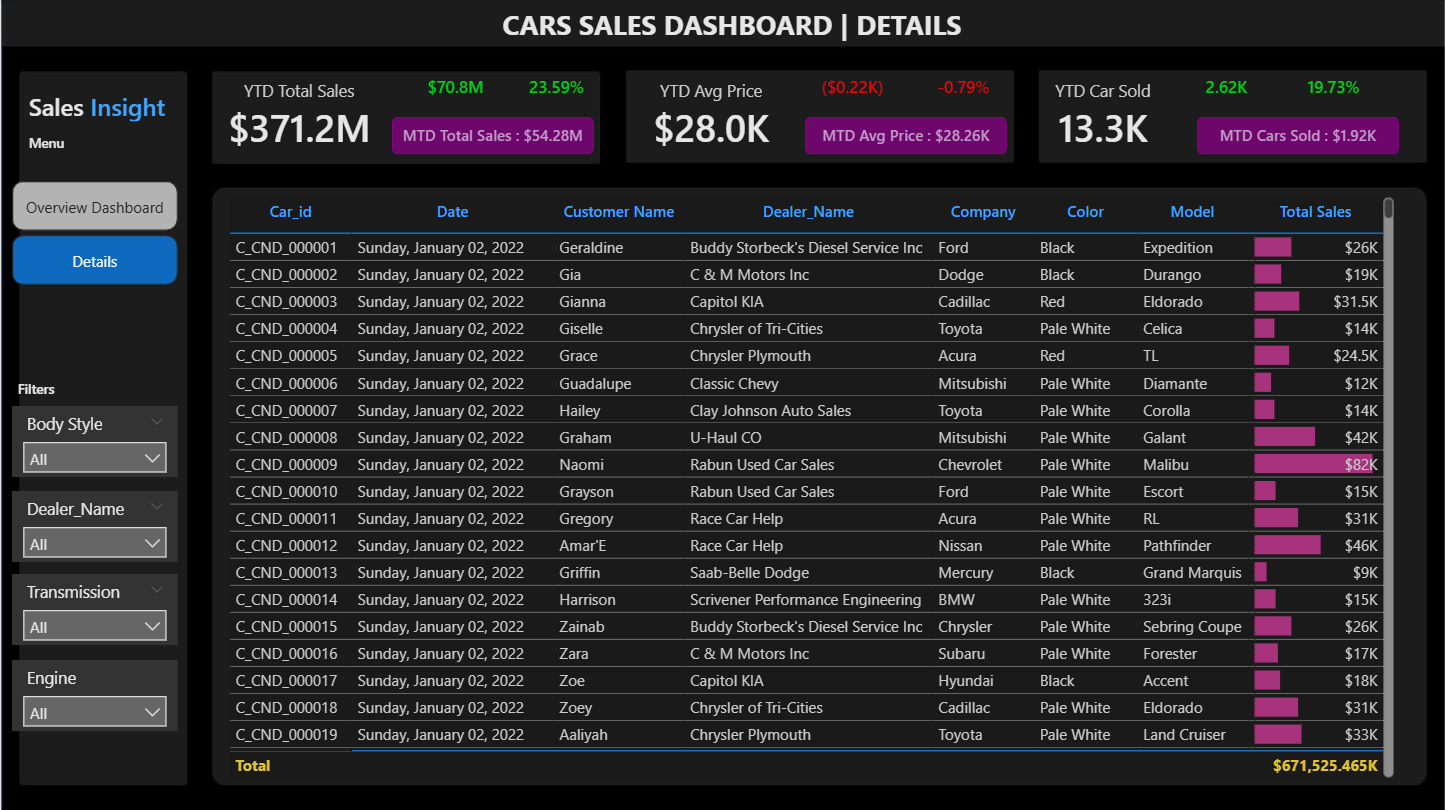

The page's visual inventory and layout, read from the dashboard file:
{"tool":"powerbi","page":{"name":"Details","canvas":[1280,720],"ordinal":1},"visuals":[{"type":"card","title":"YTD Total Sales","fields":{"Values":["car_data.YTD Total Sales"]},"box":[193.6,70,142,67.1],"z":0},{"type":"card","fields":{"Values":["car_data.Sales Difference"]},"box":[364.7,63.2,76.8,33.1],"z":1000},{"type":"card","fields":{"Values":["car_data.YoY Sales Growth"]},"box":[454.2,63.2,76.8,33.1],"z":2000},{"type":"card","fields":{"Values":["car_data.MTD KPI"]},"box":[346.3,104.1,179,33.1],"z":3000},{"type":"card","title":"YTD Avg Price","fields":{"Values":["car_data.YTD Avg Price"]},"box":[558.3,70,142,67.1],"z":4000},{"type":"card","fields":{"Values":["car_data.Avg Price Difference"]},"box":[716.8,63.2,76.8,33.1],"z":5000},{"type":"card","fields":{"Values":["car_data.YoY Avg Price Growth"]},"box":[815.1,63.2,76.8,33.1],"z":6000},{"type":"card","fields":{"Values":["car_data.MTD Avg Price KPI"]},"box":[712.9,104.1,179,33.1],"z":7000},{"type":"card","title":"YTD Car Sold","fields":{"Values":["car_data.YTD Cars Sold"]},"box":[906.5,70,142,67.1],"z":8000},{"type":"card","fields":{"Values":["car_data.Cars Sold Diff"]},"box":[1048.5,63.2,76.8,33.1],"z":9000},{"type":"card","fields":{"Values":["car_data.YoY Car Sold Growth"]},"box":[1142.9,63.2,76.8,33.1],"z":10000},{"type":"card","fields":{"Values":["car_data.MTD Cars Sold KPI"]},"box":[1060.2,104.1,179,33.1],"z":11000},{"type":"textbox","box":[423,0,450.4,44.3],"z":17000},{"type":"slicer","fields":{"Values":["car_data.Body Style"]},"box":[9.8,360,147.2,63],"z":18000},{"type":"slicer","fields":{"Values":["car_data.Dealer_Name"]},"box":[9.8,435.4,147.2,63],"z":19000},{"type":"slicer","fields":{"Values":["car_data.Transmission"]},"box":[9.8,509,147.2,63],"z":20000},{"type":"slicer","fields":{"Values":["car_data.Engine"]},"box":[9.8,585.2,147.2,63],"z":21000},{"type":"textbox","box":[9.8,330.7,74.5,29.3],"z":22000},{"type":"tableEx","fields":{"Values":["car_data.Car_id","car_data.Date","car_data.Customer Name","car_data.Dealer_Name","car_data.Company","car_data.Color","car_data.Model","Sum(car_data.Price ($))"]},"box":[196.8,170.2,1042.8,524],"z":22001},{"type":"pageNavigator","box":[9.8,160.5,147.2,92.2],"z":22002},{"type":"textbox","box":[19.5,112.6,74.5,29.3],"z":22003},{"type":"textbox","box":[19.5,74.5,137.4,38.1],"z":22004}]}

Visuals, with their boxes in screenshot pixels (x1, y1, x2, y2), scaled from the page's 1280x720 canvas onto the 1445x810 screenshot:
"YTD Total Sales" card: bbox=[219, 79, 379, 154]
card - car_data.Sales Difference: bbox=[412, 71, 498, 108]
card - car_data.YoY Sales Growth: bbox=[513, 71, 599, 108]
card - car_data.MTD KPI: bbox=[391, 117, 593, 154]
"YTD Avg Price" card: bbox=[630, 79, 791, 154]
card - car_data.Avg Price Difference: bbox=[809, 71, 896, 108]
card - car_data.YoY Avg Price Growth: bbox=[920, 71, 1007, 108]
card - car_data.MTD Avg Price KPI: bbox=[805, 117, 1007, 154]
"YTD Car Sold" card: bbox=[1023, 79, 1184, 154]
card - car_data.Cars Sold Diff: bbox=[1184, 71, 1270, 108]
card - car_data.YoY Car Sold Growth: bbox=[1290, 71, 1377, 108]
card - car_data.MTD Cars Sold KPI: bbox=[1197, 117, 1399, 154]
textbox: bbox=[478, 0, 986, 50]
slicer - car_data.Body Style: bbox=[11, 405, 177, 476]
slicer - car_data.Dealer_Name: bbox=[11, 490, 177, 561]
slicer - car_data.Transmission: bbox=[11, 573, 177, 644]
slicer - car_data.Engine: bbox=[11, 658, 177, 729]
textbox: bbox=[11, 372, 95, 405]
tableEx - car_data.Car_id x car_data.Date: bbox=[222, 191, 1399, 781]
pageNavigator: bbox=[11, 181, 177, 284]
textbox: bbox=[22, 127, 106, 160]
textbox: bbox=[22, 84, 177, 127]
